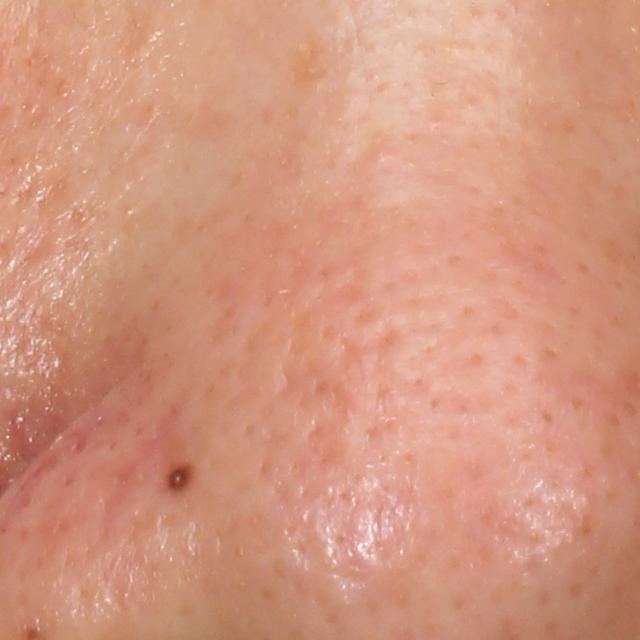nevus: (163, 463, 193, 494)
